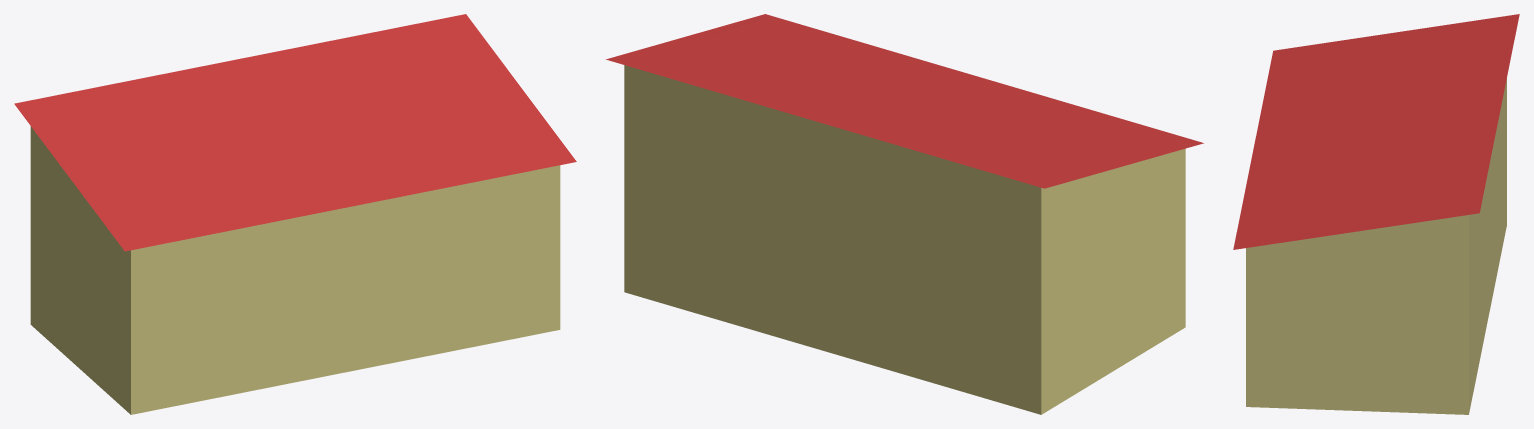
3 views of the same model, side by side, from view 1: azimuth 30°, elevation 25°; view 2: azimuth 150°, elevation 25°; view 3: azimuth 270°, elevation 25° (orthographic). The views are drawn at different scales.
Size of the model in its own units: 20.76 by 12.07 by 9.63.
